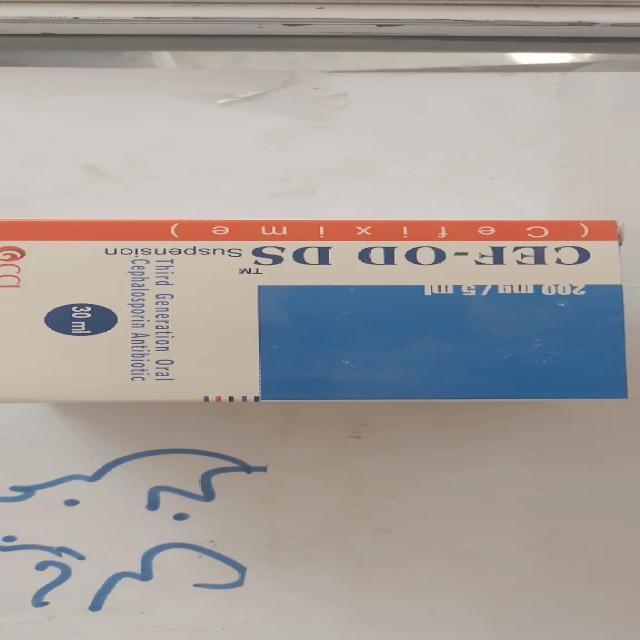drug-name: (251, 245, 594, 272)
